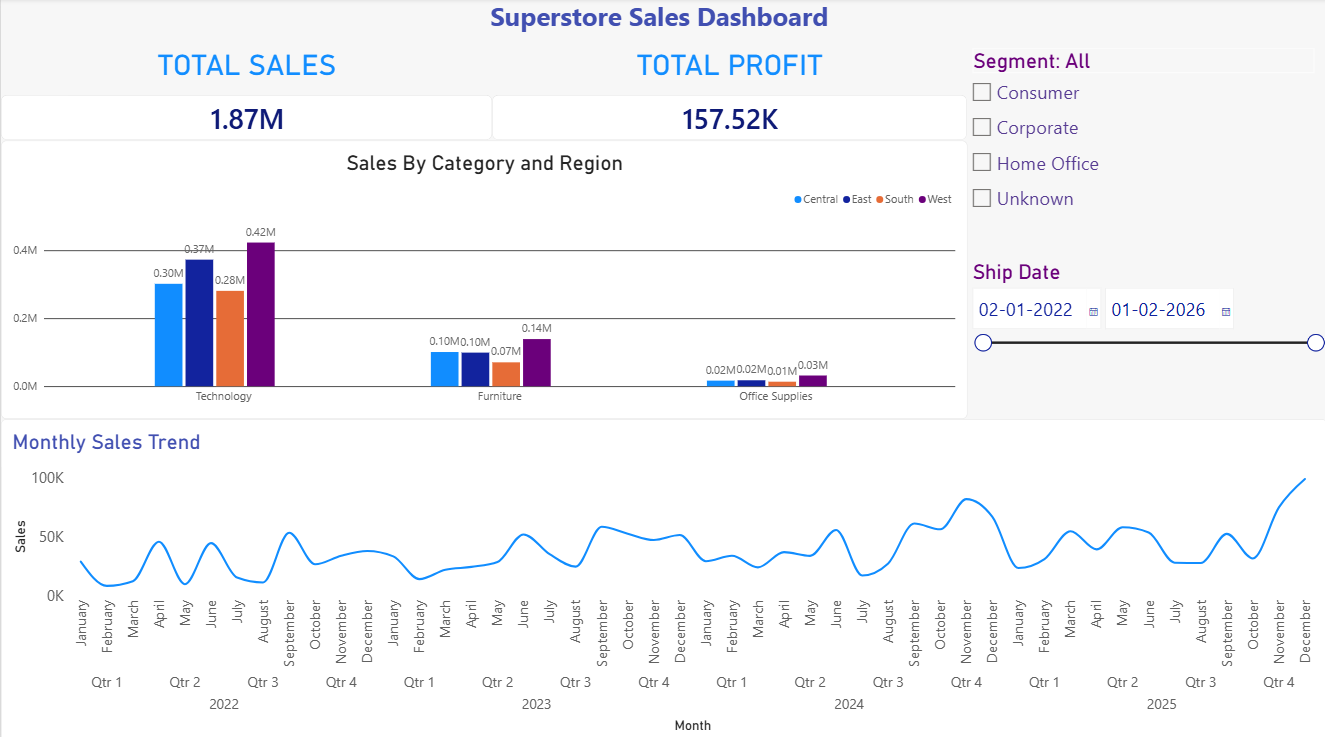

The page's visual inventory and layout, read from the dashboard file:
{"tool":"powerbi","page":{"name":"Page 3","canvas":[1920,1080],"ordinal":2},"visuals":[{"type":"clusteredColumnChart","title":"Sales By Category and Region","fields":{"Category":["superstore_cleaned.Category"],"Series":["superstore_cleaned.Region"],"Y":["Sum(superstore_cleaned.Sales)"]},"box":[0,206.3,1398.9,403.6],"z":0},{"type":"slicer","fields":{"Values":["superstore_cleaned.Segment"]},"box":[1398.9,72.4,510.3,267.8],"z":1000},{"type":"slicer","fields":{"Values":["superstore_cleaned.Ship Date"]},"box":[1398.9,378.2,521.2,231.6],"z":2000},{"type":"cardVisual","title":"TOTAL PROFIT","fields":{"Data":["Sum(superstore_cleaned.Profit)"]},"box":[711.2,72.4,687.7,133.9],"z":4000},{"type":"cardVisual","title":"TOTAL SALES","fields":{"Data":["Sum(superstore_cleaned.Sales)"]},"box":[0,72.4,711.2,133.9],"z":5000},{"type":"lineChart","title":"Monthly Sales Trend","fields":{"Category":["superstore_cleaned.Order Date.Variation.Date Hierarchy.Year","superstore_cleaned.Order Date.Variation.Date Hierarchy.Quarter","superstore_cleaned.Order Date.Variation.Date Hierarchy.Month","superstore_cleaned.Order Date.Variation.Date Hierarchy.Day"],"Y":["Sum(superstore_cleaned.Sales)"]},"box":[0,609.9,1920.1,470.5],"z":5001},{"type":"textbox","box":[100,100,300,300],"z":5002},{"type":"textbox","box":[99.5,99.5,1455,39.8],"z":5003},{"type":"textbox","box":[0,0,1905.6,72.4],"z":5004}]}

Visuals, with their boxes in screenshot pixels (x1, y1, x2, y2), scaled from the page's 1920x1080 canvas onto the 1325x737 screenshot:
"Sales By Category and Region" clusteredColumnChart: bbox(0, 141, 965, 416)
slicer - superstore_cleaned.Segment: bbox(965, 49, 1318, 232)
slicer - superstore_cleaned.Ship Date: bbox(965, 258, 1324, 416)
"TOTAL PROFIT" cardVisual: bbox(491, 49, 965, 141)
"TOTAL SALES" cardVisual: bbox(0, 49, 491, 141)
"Monthly Sales Trend" lineChart: bbox(0, 416, 1324, 736)
textbox: bbox(69, 68, 276, 273)
textbox: bbox(69, 68, 1073, 95)
textbox: bbox(0, 0, 1315, 49)
